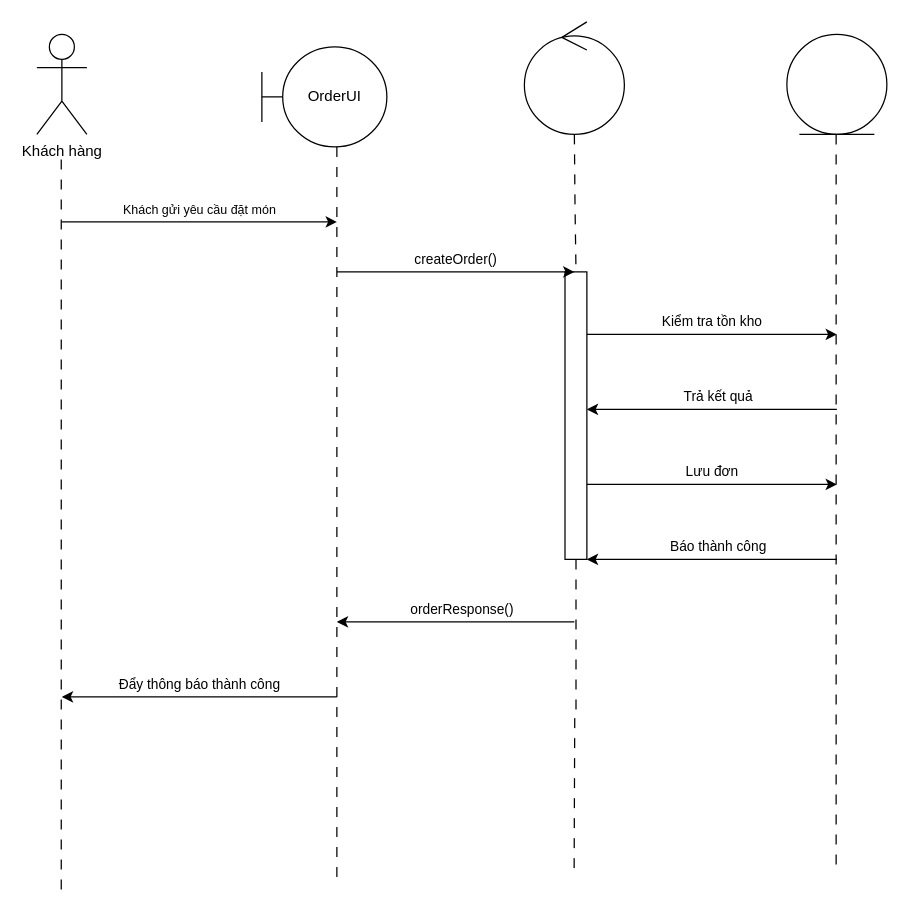
The diagram is 909 pixels wide and 920 high, and some of its shapes have lost their labels. Here are the shapes that lost their labels. From the top down, the centre of each, then its label:
(x=573, y=77): Order Controller
(x=836, y=83): Database
